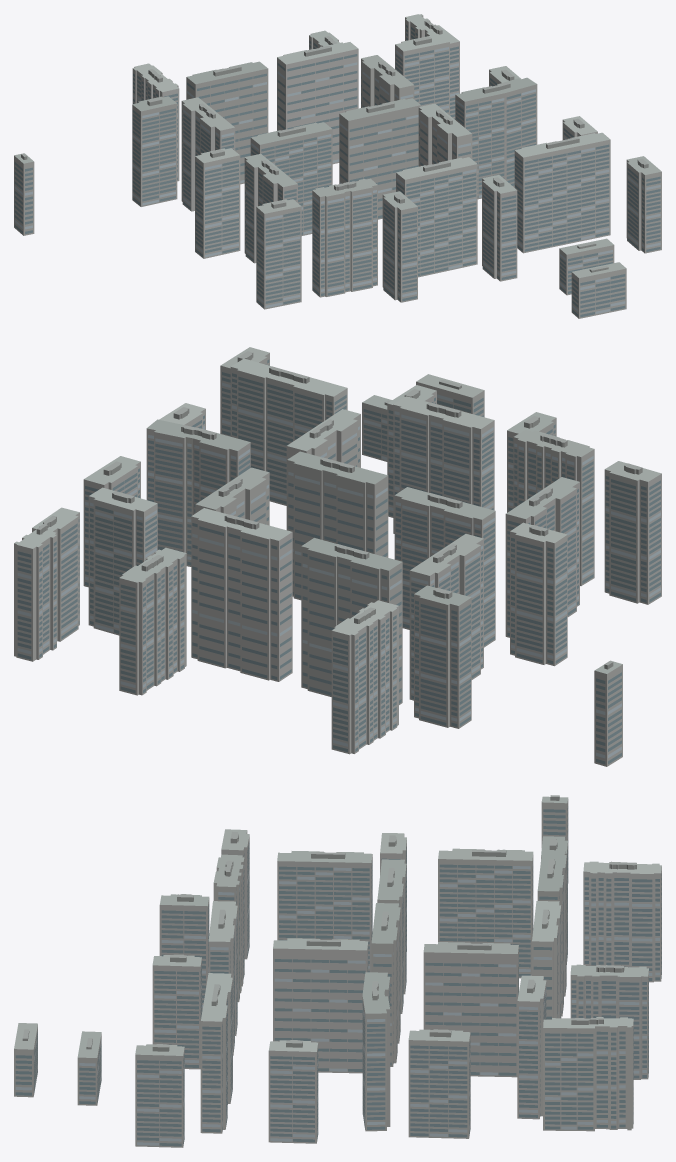
File: apt-a13010005.glb
3 views of the same model, one above another, from view 1: azimuth 30°, elevation 25°; view 2: azimuth 150°, elevation 25°; view 3: azimuth 270°, elevation 25° (orthographic). The views are drawn at different scales.
Parts seen in each view (by area): view 1: apt-a13010005; view 2: apt-a13010005; view 3: apt-a13010005.
Boxes of the visible parts, left/top/right/bottom form: apt-a13010005: left=14, top=14, right=661, bottom=318; apt-a13010005: left=14, top=347, right=661, bottom=766; apt-a13010005: left=14, top=795, right=661, bottom=1147.
Size of the model in its own units: 309 by 72 by 318.
